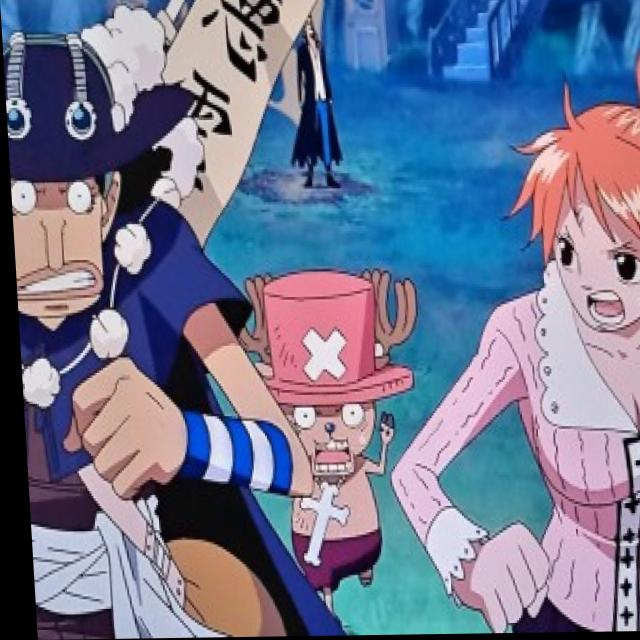Chyopa: (224, 254, 439, 613)
Nami: (492, 78, 640, 355)
Usopp: (1, 23, 176, 336)
